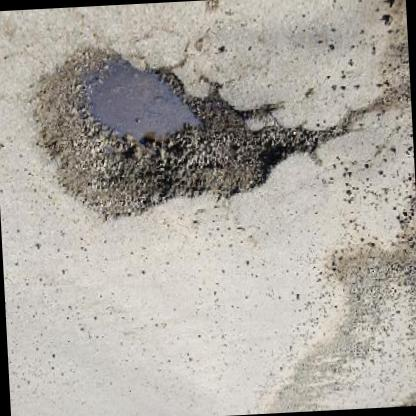pothole: (28, 36, 312, 228)
